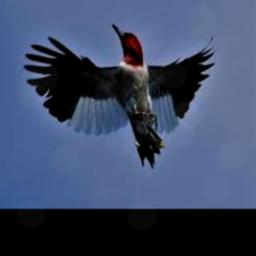Woodpecker: (24, 24, 215, 167)
